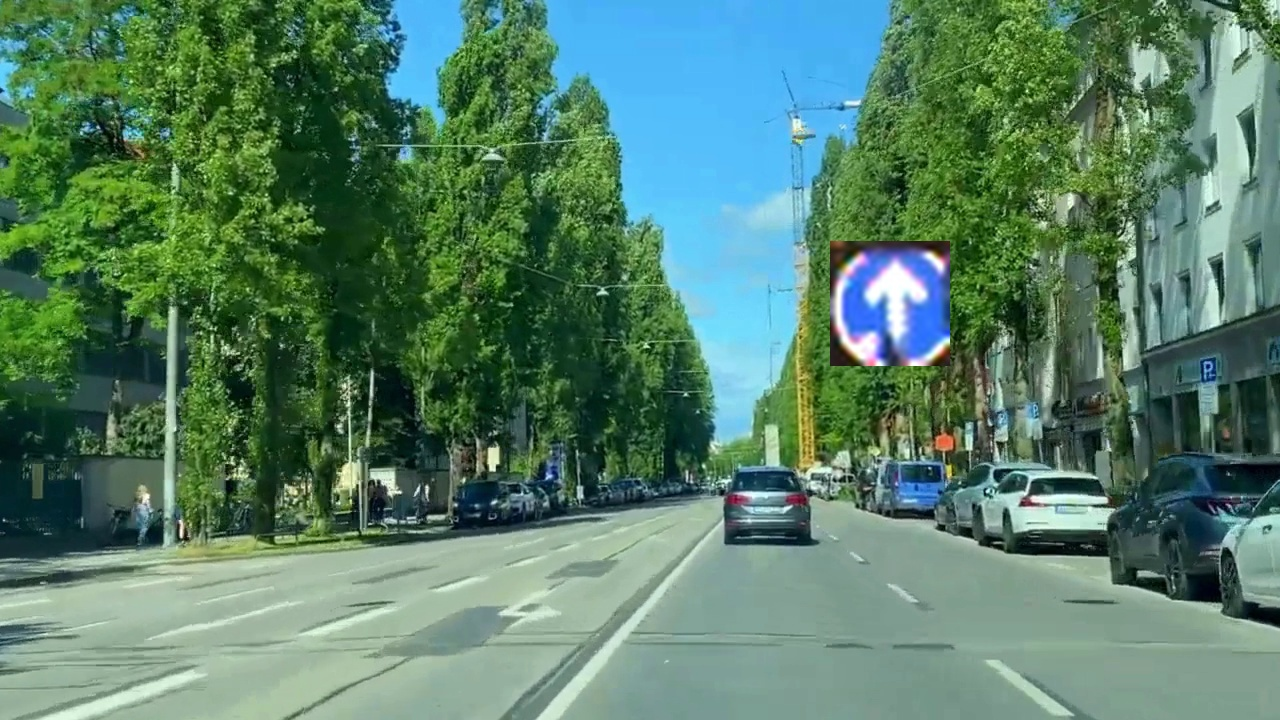Ahead only: (830, 241, 950, 366)
